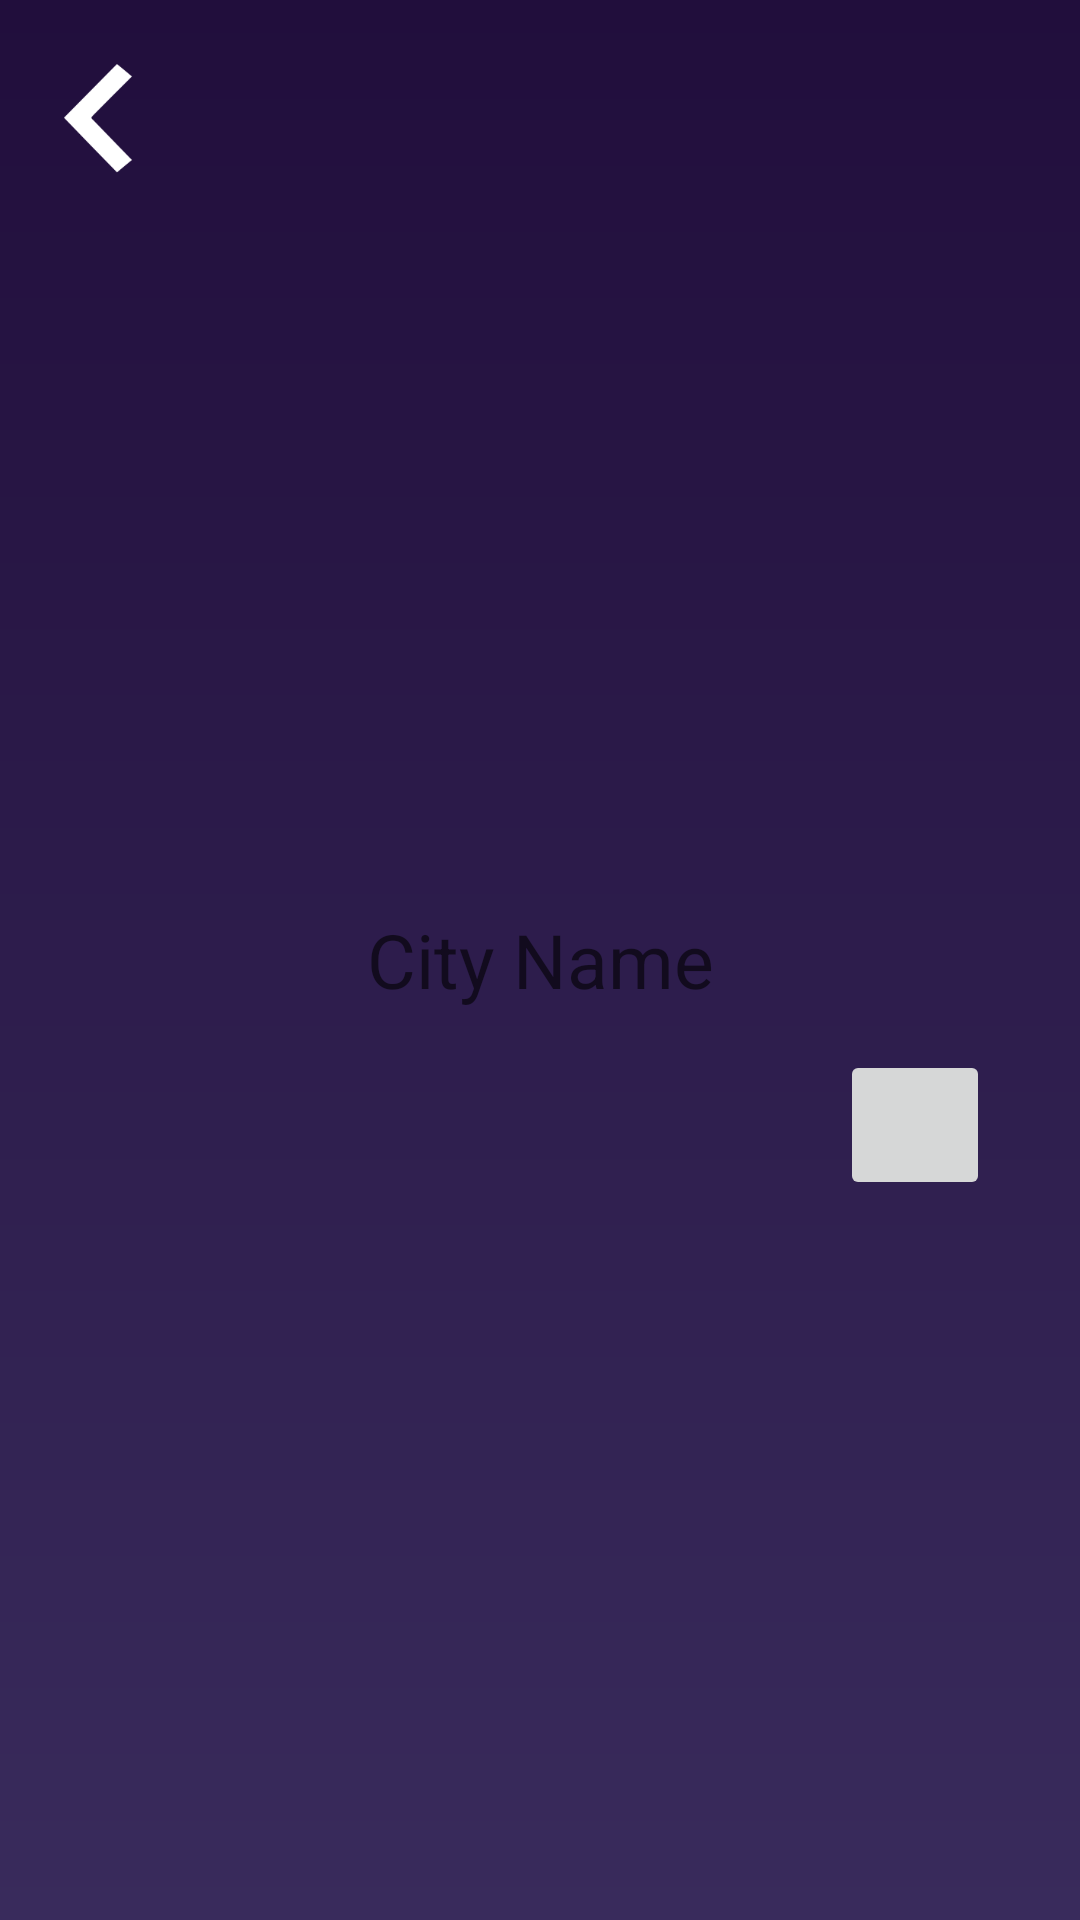

Icons on this 1080x1920 Android screen, each with the point to tap as [x,y]:
back: [98,118]
